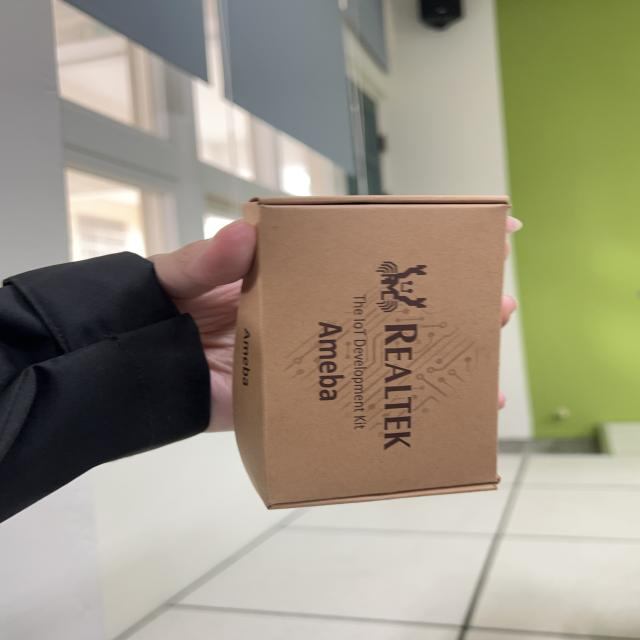box: (226, 185, 511, 516)
